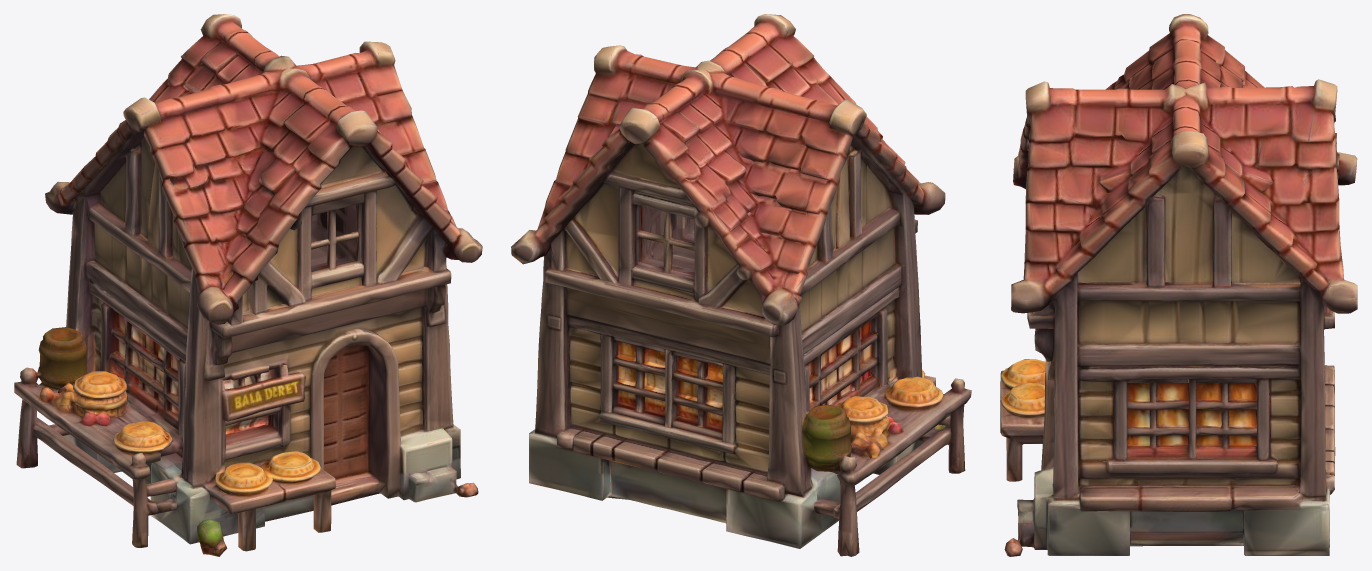
The model's file is special1.glb.
3 views of the same model, side by side, from view 1: azimuth 30°, elevation 25°; view 2: azimuth 150°, elevation 25°; view 3: azimuth 270°, elevation 25° (orthographic). The views are drawn at different scales.
Visible parts, largest first — view 1: Mesh_0; view 2: Mesh_0; view 3: Mesh_0.
Boxes of the visible parts, bbox=[...] form: Mesh_0: bbox=[14, 14, 482, 556]; Mesh_0: bbox=[511, 14, 971, 556]; Mesh_0: bbox=[1000, 14, 1357, 556].
Bounding box in the file's own units: 1.64 × 1.91 × 1.47.
Materials: 1 (1 with a texture image).
